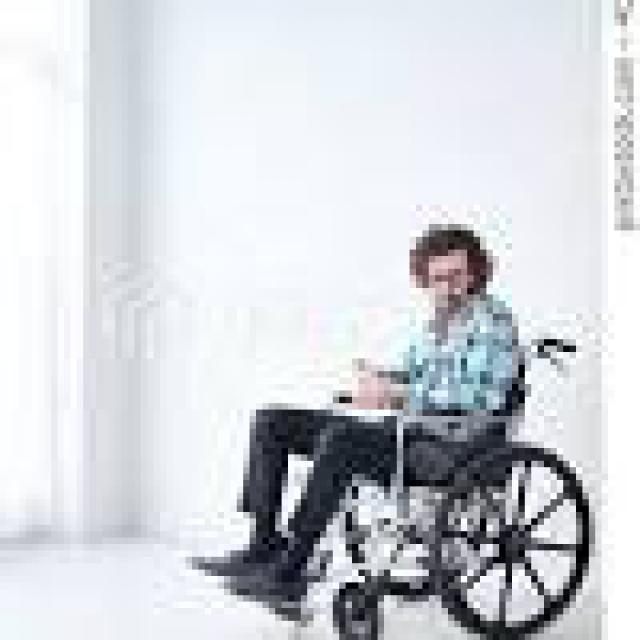wheelchairs: (268, 326, 602, 634)
